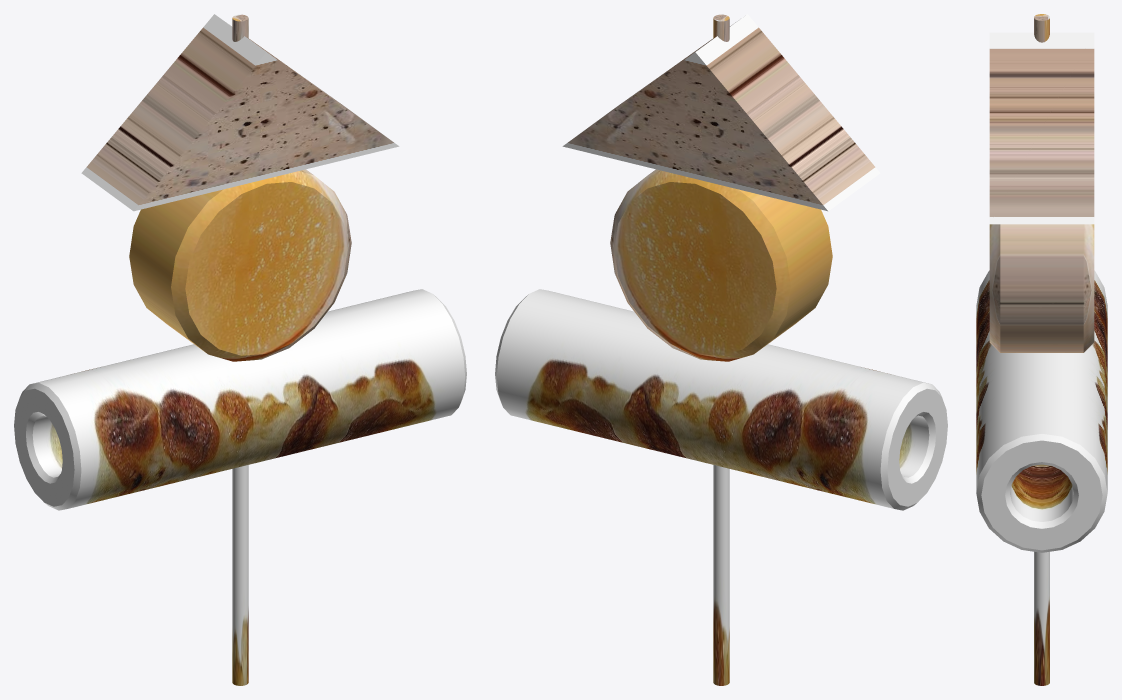
File: oden.fbx
3 renders of one model, left to right at view 1: azimuth 30°, elevation 25°; view 2: azimuth 150°, elevation 25°; view 3: azimuth 270°, elevation 25°, orthographic.
Parts seen in each view (by area): view 1: pCylinder6; view 2: pCylinder6; view 3: pCylinder6.
Boxes of the visible parts, <box> form: pCylinder6: <box>14,14,466,685</box>; pCylinder6: <box>495,14,947,685</box>; pCylinder6: <box>976,14,1107,685</box>.
Bounding box in the file's own units: 4.34 × 7.03 × 1.26.
1 material, 1 textured.
